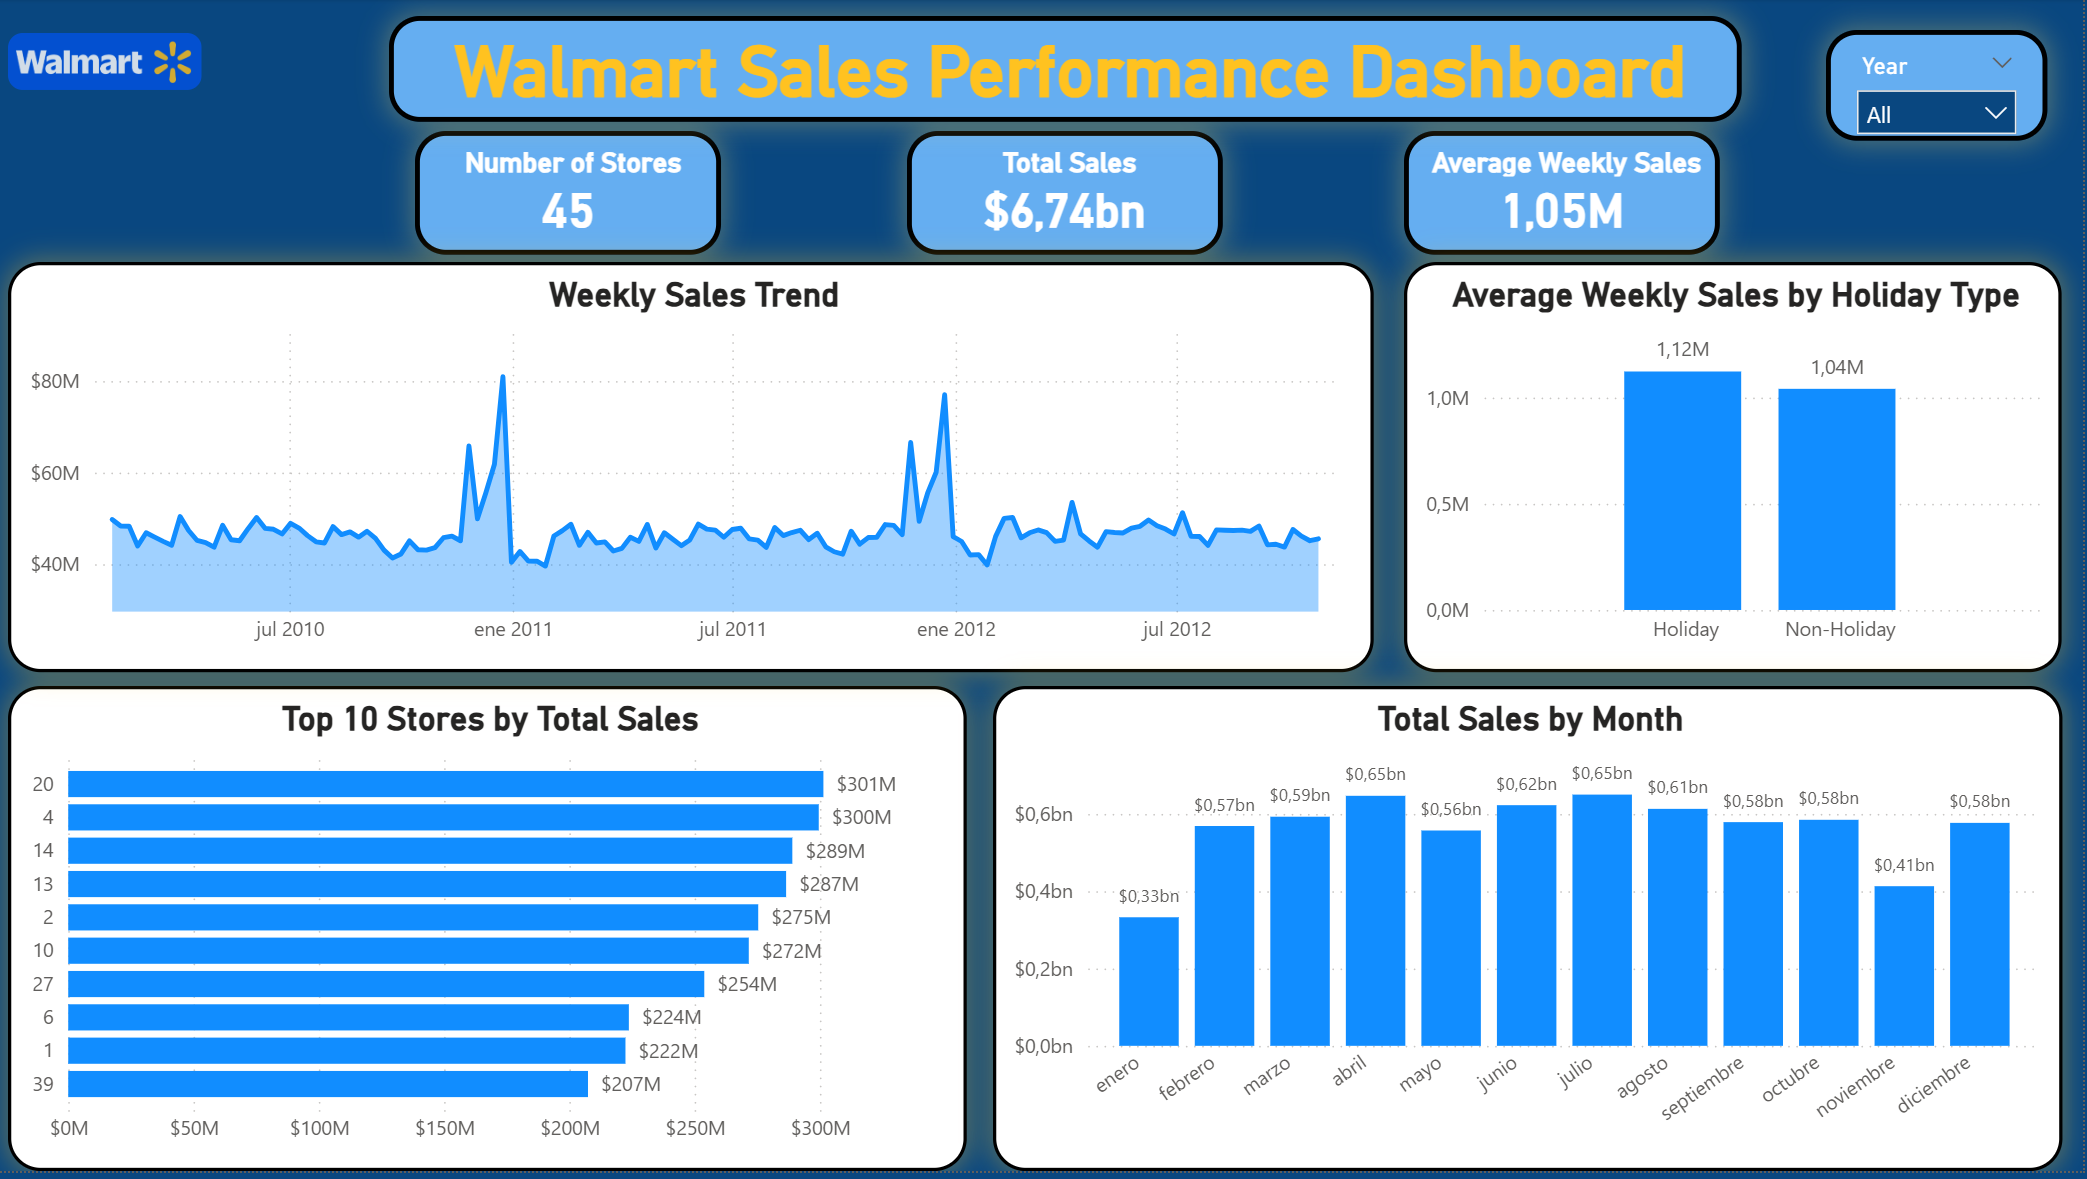

This screenshot's page, from the dashboard's own definition file:
{"tool":"powerbi","page":{"name":"Page 1","canvas":[1280,720],"ordinal":0},"visuals":[{"type":"card","title":"Total Sales","fields":{"Values":["Walmart_Sales.Total Sales"]},"box":[558,81,193.9,75.5],"z":0},{"type":"card","title":"Number of Stores","fields":{"Values":["Walmart_Sales.Number of Stores"]},"box":[255.9,81,188.5,75.5],"z":1000},{"type":"card","title":"Average Weekly Sales","fields":{"Values":["Walmart_Sales.Average Weekly Sales"]},"box":[862.9,81,193.9,75.5],"z":2000},{"type":"clusteredBarChart","title":"Top 10 Stores by Total Sales","fields":{"Y":["Walmart_Sales.Total Sales"],"Category":["Walmart_Sales.Store"]},"box":[5.4,421.9,588.6,298.1],"z":4000},{"type":"clusteredColumnChart","title":"Average Weekly Sales by Holiday Type","fields":{"Category":["Walmart_Sales.Holiday_Type"],"Y":["Walmart_Sales.Average Weekly Sales"]},"box":[862.9,161.3,404.2,251.8],"z":5000},{"type":"lineChart","title":"Weekly Sales Trend","fields":{"Y":["Walmart_Sales.Total Sales"],"Category":["Walmart_Sales.Date"]},"box":[5.4,161.3,839,251.8],"z":6000},{"type":"slicer","fields":{"Values":["Walmart_Sales.Year"]},"box":[1122.1,19.1,136.1,68],"z":7000},{"type":"clusteredColumnChart","title":"Total Sales by Month","fields":{"Category":["Walmart_Sales.Month Name"],"Y":["Walmart_Sales.Total Sales"]},"box":[610.4,421.9,656.7,298.1],"z":8000},{"type":"image","box":[5.4,21.1,119.1,34.7],"z":9000},{"type":"textbox","title":"Walmart Sales Performance Dashboard","box":[239.5,10.2,830.9,64.6],"z":10000}]}

Visuals, with their boxes in screenshot pixels (x1, y1, x2, y2), scaled from the page's 1280x720 canvas onto the 2087x1179 screenshot:
"Total Sales" card: bbox=(910, 133, 1226, 256)
"Number of Stores" card: bbox=(417, 133, 725, 256)
"Average Weekly Sales" card: bbox=(1407, 133, 1723, 256)
"Top 10 Stores by Total Sales" clusteredBarChart: bbox=(9, 691, 968, 1178)
"Average Weekly Sales by Holiday Type" clusteredColumnChart: bbox=(1407, 264, 2066, 676)
"Weekly Sales Trend" lineChart: bbox=(9, 264, 1377, 676)
slicer - Walmart_Sales.Year: bbox=(1830, 31, 2051, 143)
"Total Sales by Month" clusteredColumnChart: bbox=(995, 691, 2066, 1178)
image: bbox=(9, 35, 203, 91)
"Walmart Sales Performance Dashboard" textbox: bbox=(390, 17, 1745, 122)
